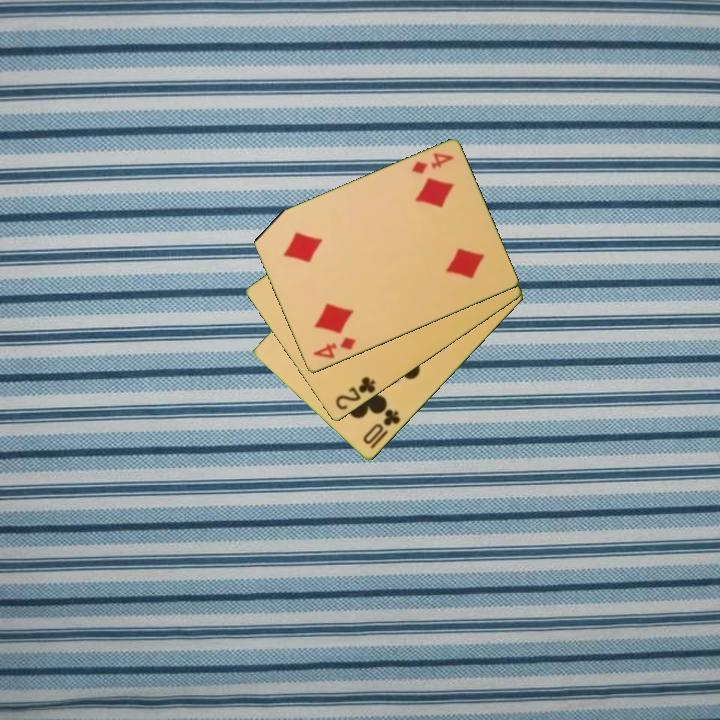10c: (359, 406, 403, 448)
2c: (332, 373, 379, 413)
4d: (309, 334, 359, 362), (408, 149, 457, 177)
